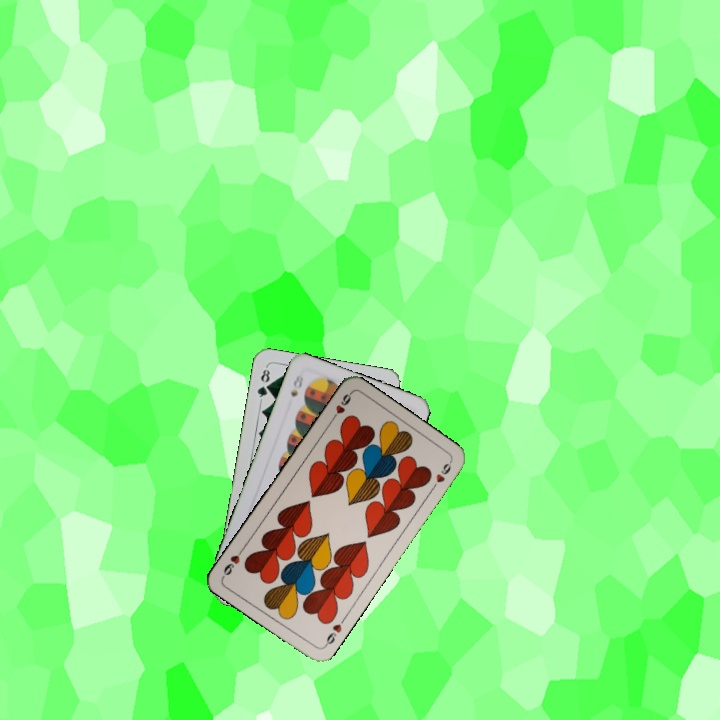G8: (253, 363, 272, 403)
H9: (320, 614, 348, 650), (327, 389, 354, 425)
S8: (286, 370, 306, 399)
